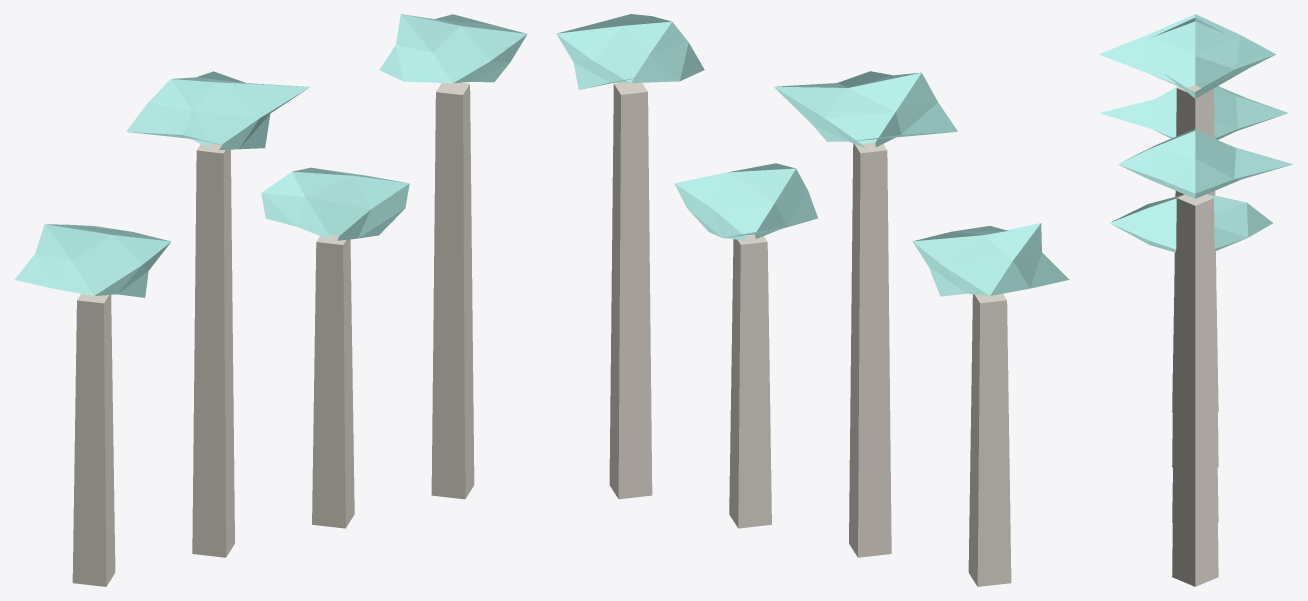
The model's file is glowcap_v17.glb.
3 renders of one model, left to right at view 1: azimuth 30°, elevation 25°; view 2: azimuth 150°, elevation 25°; view 3: azimuth 270°, elevation 25°, orthographic. The views are drawn at different scales.
Parts seen in each view (by area): view 1: lod0; view 2: lod0; view 3: lod0.
Boxes of the visible parts, x1,y1,x2,y2 form: lod0: (14,14,527,586); lod0: (556,14,1069,586); lod0: (1099,14,1292,586).
Size of what is drawn, in the model's own units: 0.6007 by 0.5338 by 0.2099.
